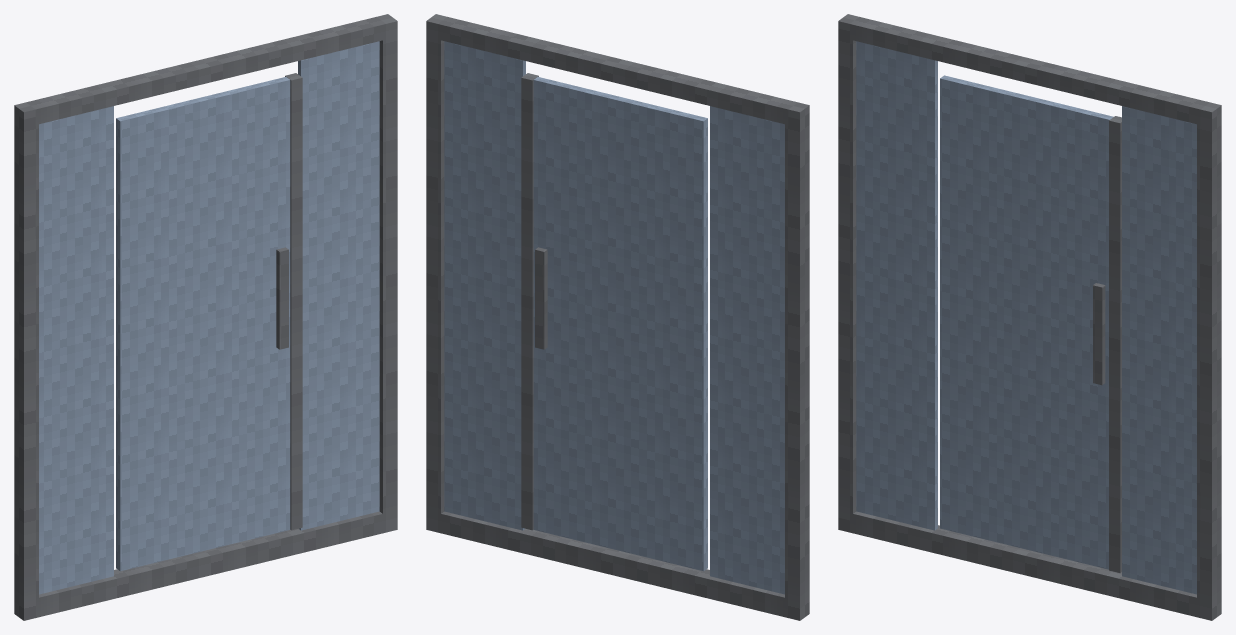
Rendered from pixel-modern-office-glass-partition-door-6c263bf4.glb.
3 renders of one model, left to right at view 1: azimuth 30°, elevation 25°; view 2: azimuth 150°, elevation 25°; view 3: azimuth 330°, elevation 25°, orthographic.
Visible parts, largest first — view 1: glass-partition-door, door-glass/slate, door-glass/charcoal; view 2: glass-partition-door, door-glass/slate, door-glass/charcoal; view 3: glass-partition-door, door-glass/slate, door-glass/charcoal.
Part boxes in pixels (x1=…): glass-partition-door: x1=14, y1=14, x2=397, y2=620; door-glass/slate: x1=116, y1=77, x2=290, y2=571; door-glass/charcoal: x1=276, y1=73, x2=302, y2=530; glass-partition-door: x1=426, y1=14, x2=809, y2=620; door-glass/slate: x1=533, y1=77, x2=707, y2=571; door-glass/charcoal: x1=521, y1=73, x2=547, y2=530; glass-partition-door: x1=838, y1=14, x2=1221, y2=620; door-glass/slate: x1=940, y1=75, x2=1113, y2=569; door-glass/charcoal: x1=1093, y1=116, x2=1121, y2=572.
Size of the model in its own units: 2 by 2.6 by 0.1.
Materials: 2 (2 with a texture image).
